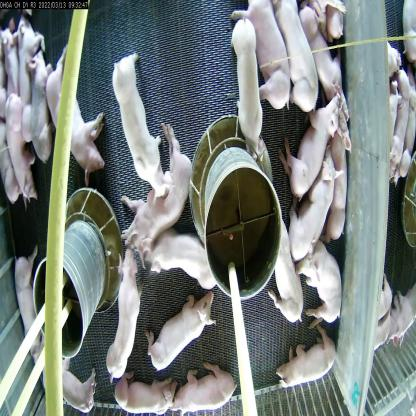Pig: (113, 54, 174, 202), (52, 55, 106, 181), (280, 90, 342, 198), (241, 0, 295, 116), (286, 153, 340, 263), (144, 288, 222, 362), (228, 11, 265, 166), (156, 216, 220, 295), (107, 240, 142, 384), (280, 4, 320, 113), (3, 83, 34, 202), (30, 46, 59, 160), (280, 326, 337, 382), (115, 366, 174, 415), (175, 369, 240, 413)
